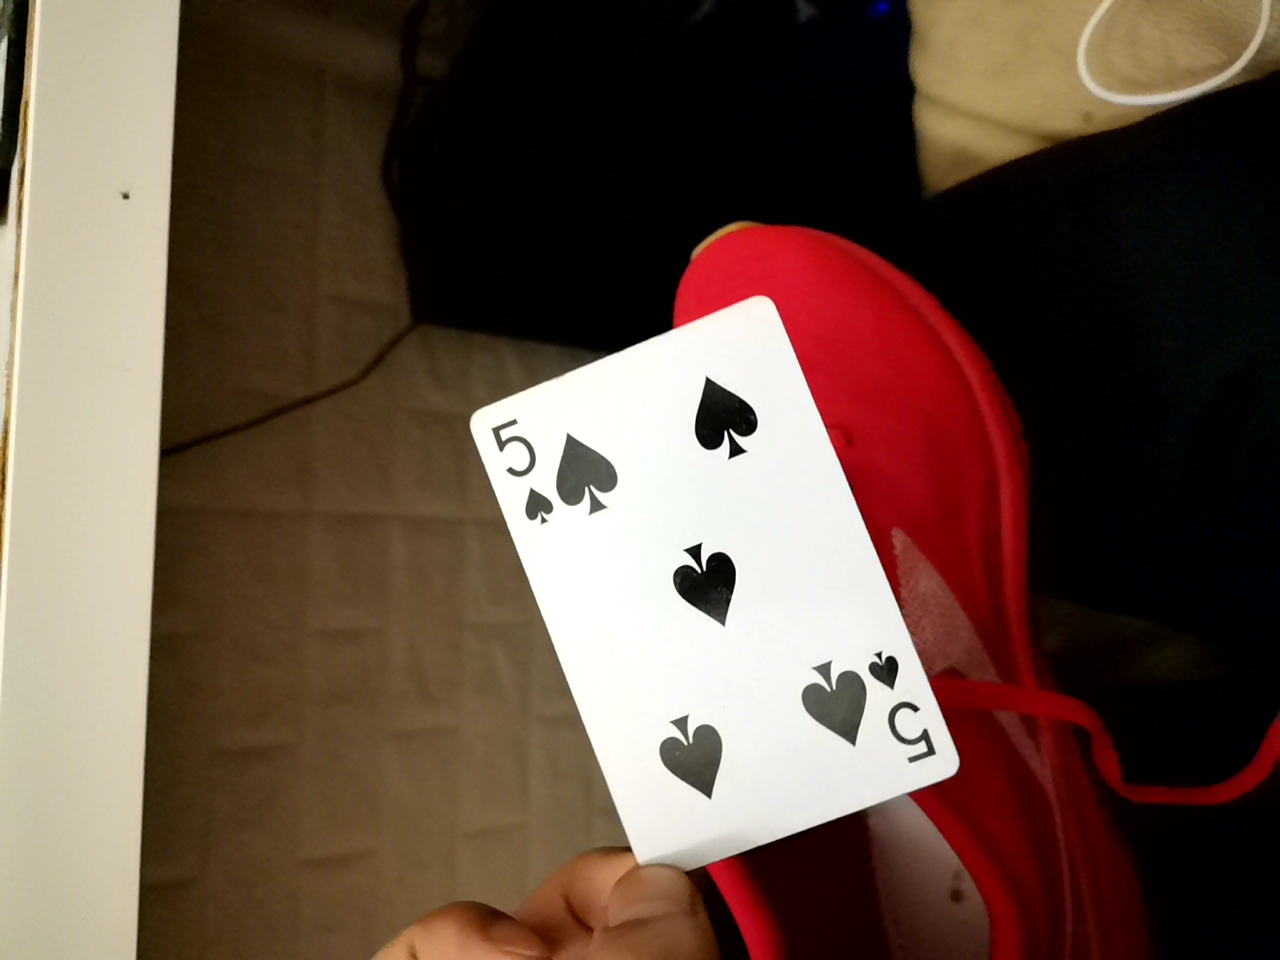ht 5: (467, 286, 953, 875)
